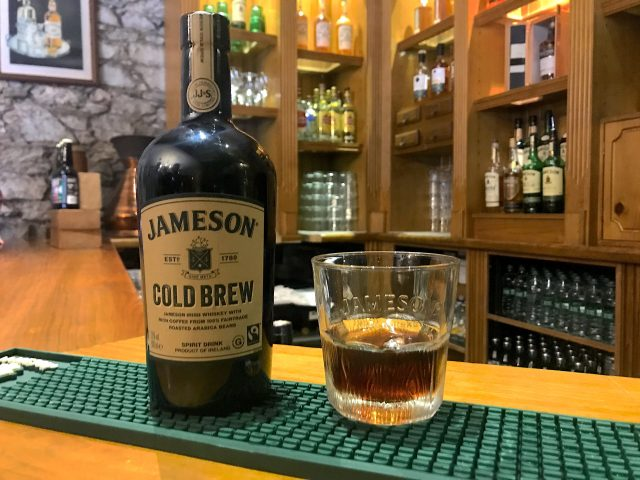Jameson: (131, 9, 280, 415)
